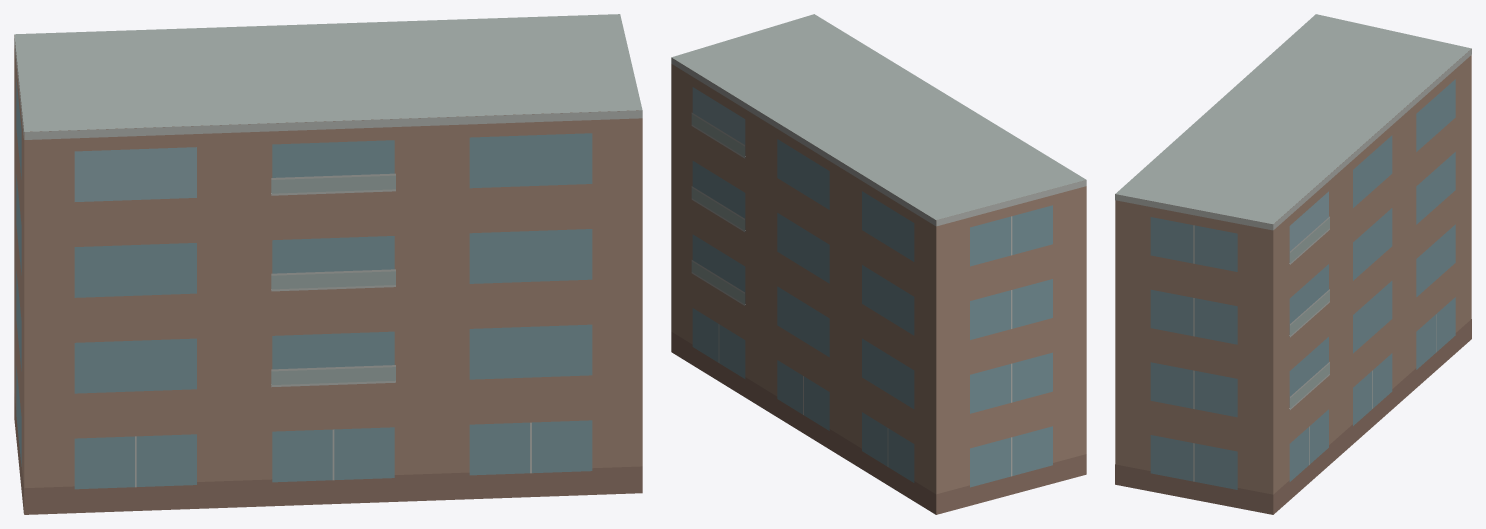
File: survey-upis-32734744.glb
The picture shows the model from 3 angles, left to right: view 1: azimuth 30°, elevation 25°; view 2: azimuth 150°, elevation 25°; view 3: azimuth 270°, elevation 25°; orthographic projection. The views are drawn at different scales.
Visible parts, largest first — view 1: survey-upis-32734744.tmp; view 2: survey-upis-32734744.tmp; view 3: survey-upis-32734744.tmp.
Boxes of the visible parts, x1,y1,x2,y2 form: survey-upis-32734744.tmp: (14,14,642,514); survey-upis-32734744.tmp: (671,14,1086,514); survey-upis-32734744.tmp: (1115,14,1471,514).
Size of the model in its own units: 17.86 by 11.5 by 12.8.
